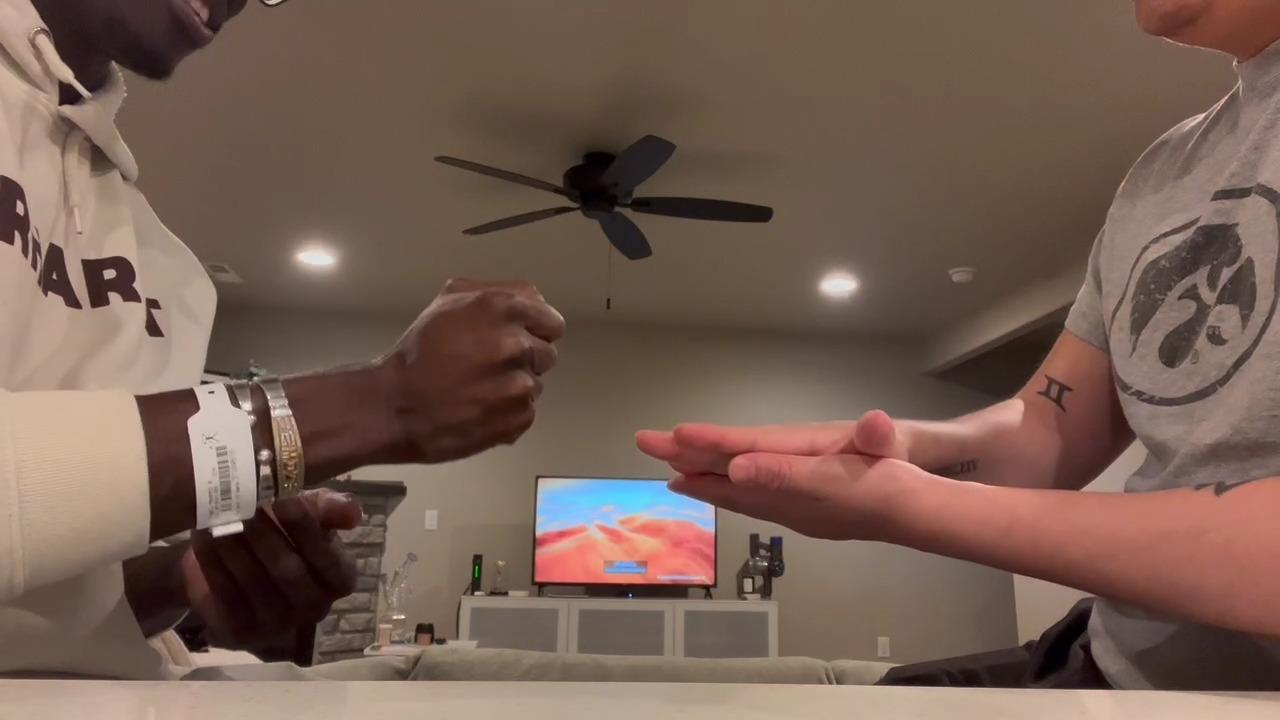Paper: (628, 410, 921, 481)
Rock: (385, 277, 567, 463)
